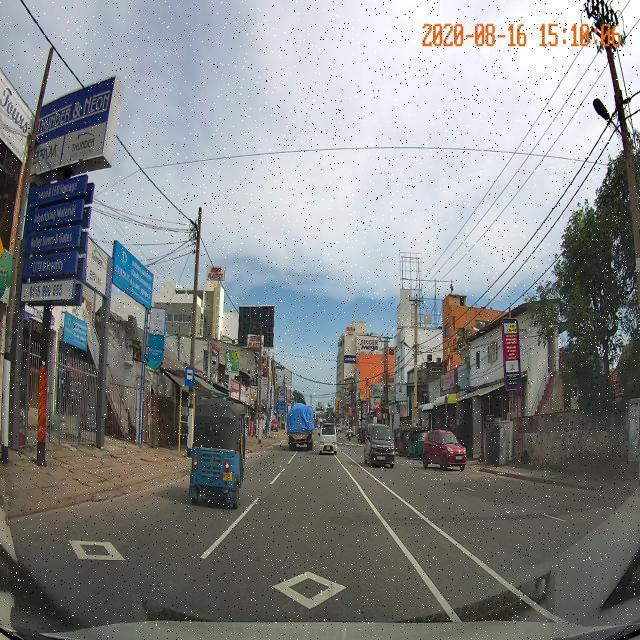diamond: (137, 533, 462, 616)
